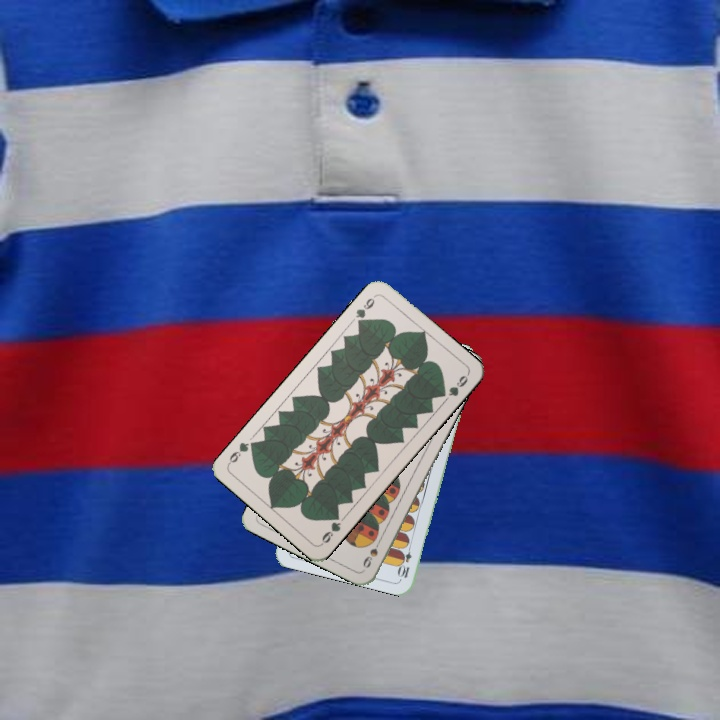E10: (396, 540, 414, 580)
G9: (351, 291, 379, 329), (317, 509, 344, 547)
S9: (359, 534, 385, 571)
